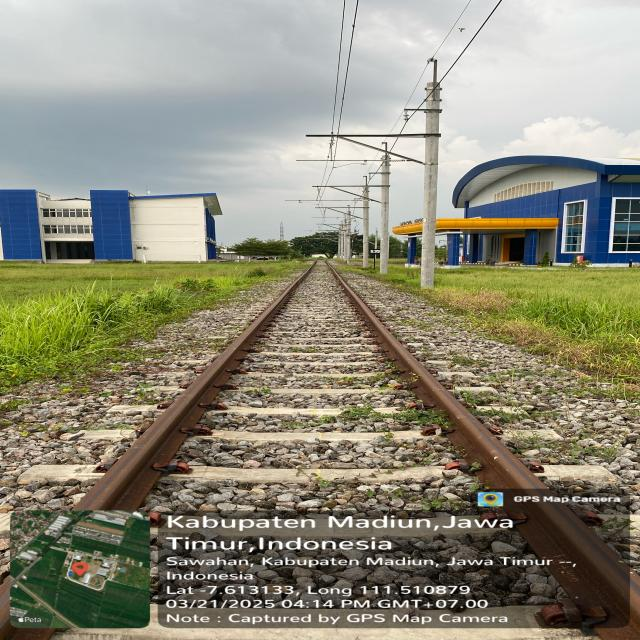rail-detection: (325, 260, 640, 640), (75, 260, 316, 510)
